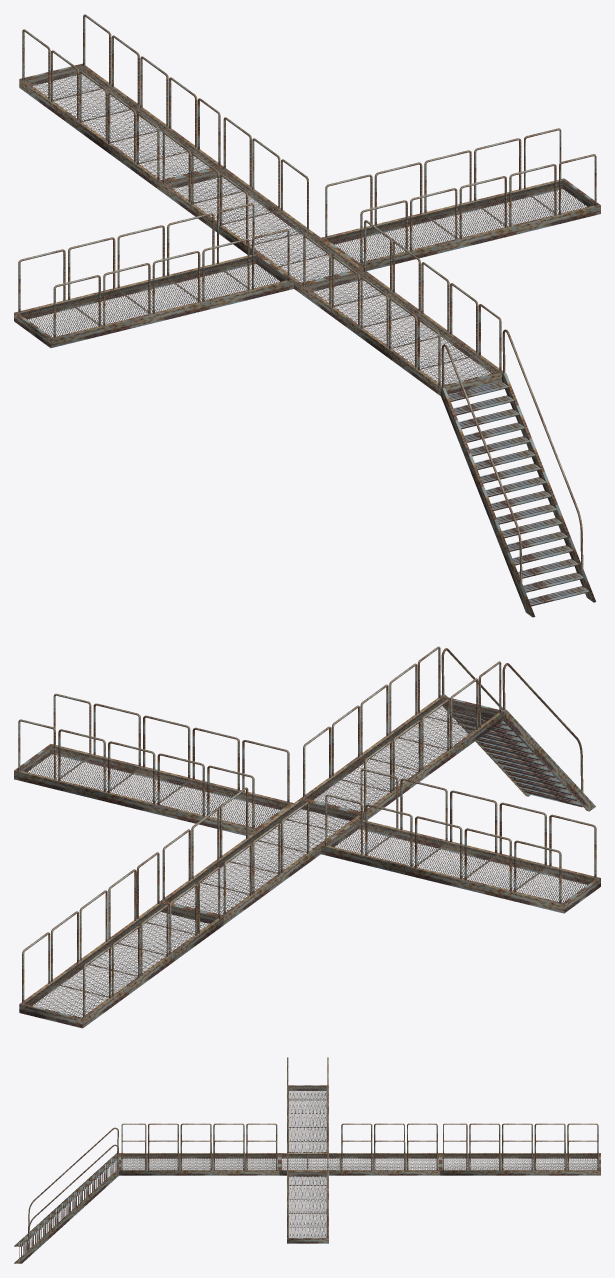
File: catwalk-element.fbx
3 renders of one model, top to bottom at view 1: azimuth 30°, elevation 25°; view 2: azimuth 150°, elevation 25°; view 3: azimuth 270°, elevation 25°, orthographic. The views are drawn at different scales.
Parts seen in each view (by area): view 1: Mesh69 step_rail2 Group1 Model; view 2: Mesh69 step_rail2 Group1 Model; view 3: Mesh69 step_rail2 Group1 Model.
Part boxes in pixels (<box>): Mesh69 step_rail2 Group1 Model: <box>14,14,600,617</box>; Mesh69 step_rail2 Group1 Model: <box>14,646,600,1028</box>; Mesh69 step_rail2 Group1 Model: <box>14,1057,600,1263</box>.
Size of the model in its own units: 1150 by 429 by 1859.
5 materials, 3 textured.
